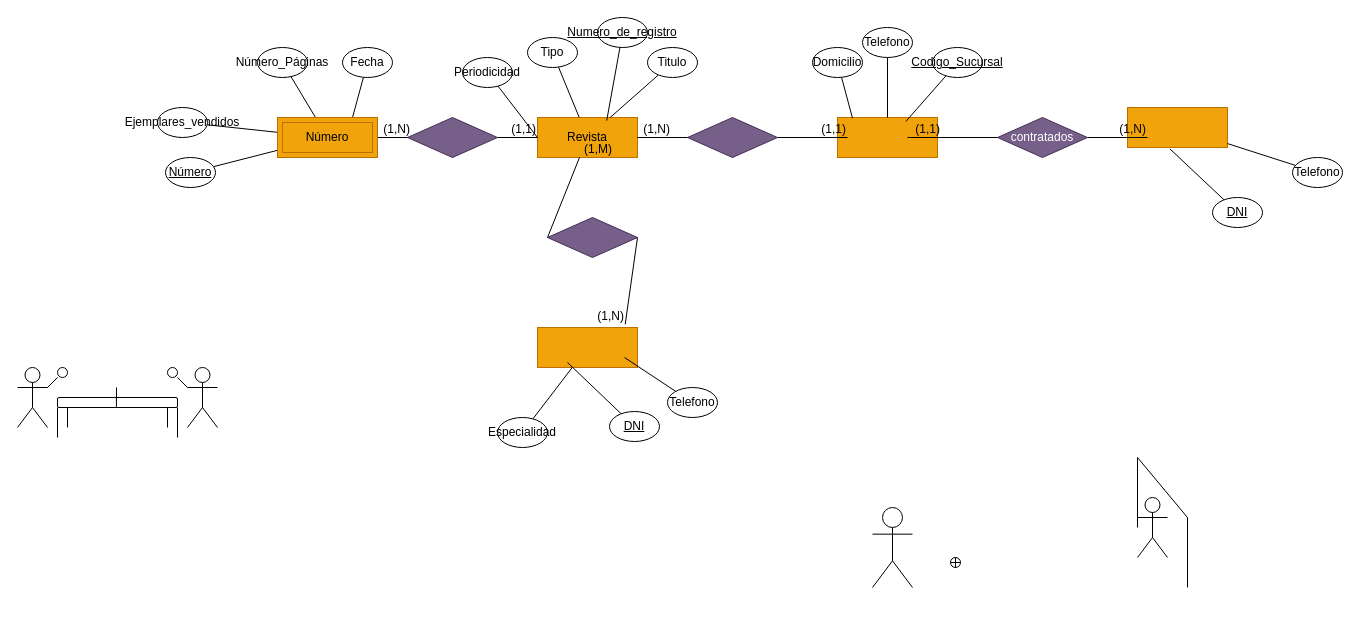
The diagram is 1360 pixels wide and 626 high, and some of its shapes have lost their labels. The box of each missing label's shape, as (x1, y1, x2, y2) in pixels:
Empleado: (1126, 106, 1228, 148)
Escribe: (546, 216, 638, 258)
Incluye: (406, 116, 498, 158)
Messi: (872, 506, 912, 588)
Periodista: (536, 326, 638, 368)
Portero: (1136, 496, 1168, 558)
Publican: (686, 116, 778, 158)
Sucursal: (836, 116, 938, 158)
